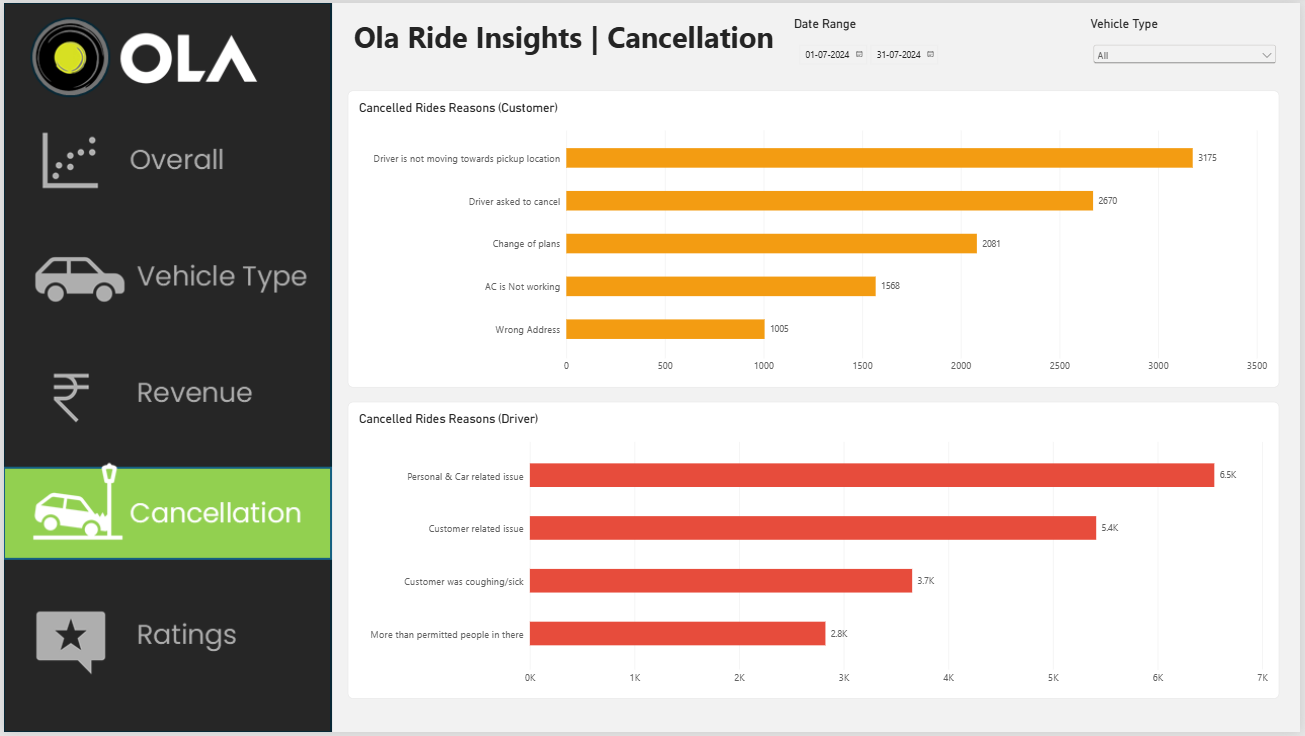

The dashboard page shown, as its layout file describes it:
{"tool":"powerbi","page":{"name":"Cancellation","canvas":[1920,1080],"ordinal":3},"visuals":[{"type":"slicer","title":"Date Range","fields":{"Values":["ola_rides.booking_date"]},"box":[1170,20,420,90],"z":0},{"type":"slicer","title":"Vehicle Type","fields":{"Values":["ola_rides.vehicle_type"]},"box":[1610,20,280,90],"z":1000},{"type":"textbox","box":[510,20,640,90],"z":2000},{"type":"actionButton","box":[0,171,486.9,136.3],"z":3000},{"type":"actionButton","box":[0,335.9,486.6,136.2],"z":4000},{"type":"actionButton","box":[0,517.5,486.6,132.5],"z":5000},{"type":"actionButton","box":[0,869.7,483,136.2],"z":6000},{"type":"clusteredBarChart","title":"Cancelled Rides Reasons (Customer)","fields":{"Category":["ola_rides.customer_cancel_reason"],"Y":["ola_rides.Total Rides"]},"box":[510,130,1380,440],"z":7000},{"type":"clusteredBarChart","title":"Cancelled Rides Reasons (Driver)","fields":{"Category":["ola_rides.driver_cancel_reason"],"Y":["ola_rides.Total Rides"]},"box":[510,590,1380,440],"z":8000}]}

Visuals, with their boxes in screenshot pixels (x1, y1, x2, y2), scaled from the page's 1920x1080 canvas onto the 1305x736 screenshot:
"Date Range" slicer: 795 14 1081 75
"Vehicle Type" slicer: 1094 14 1285 75
textbox: 347 14 782 75
actionButton: 0 117 331 209
actionButton: 0 229 331 322
actionButton: 0 353 331 443
actionButton: 0 593 328 686
"Cancelled Rides Reasons (Customer)" clusteredBarChart: 347 89 1285 388
"Cancelled Rides Reasons (Driver)" clusteredBarChart: 347 402 1285 702
